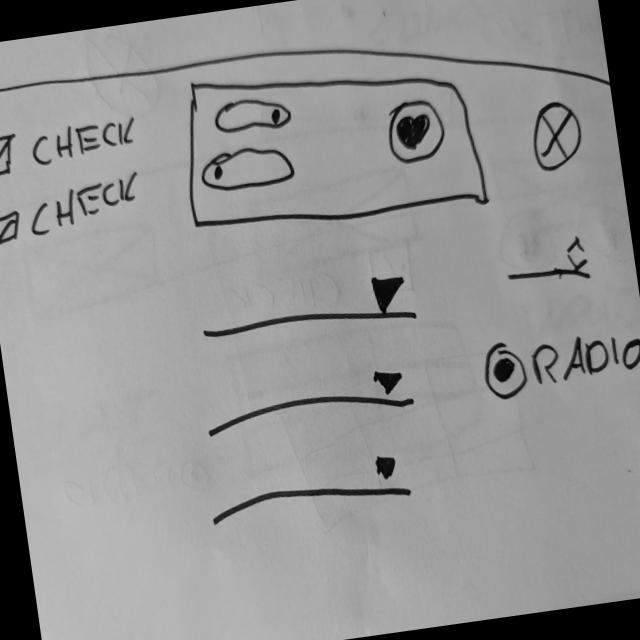checkbox: (1, 168, 149, 253), (1, 113, 146, 184)
container: (171, 42, 492, 249)
image: (526, 97, 589, 178)
number-input: (500, 232, 595, 295)
radio: (480, 320, 640, 403)
select: (196, 266, 420, 353), (203, 446, 416, 532), (201, 362, 420, 444)
toggle: (198, 141, 301, 199), (384, 95, 451, 170), (212, 91, 298, 141)
